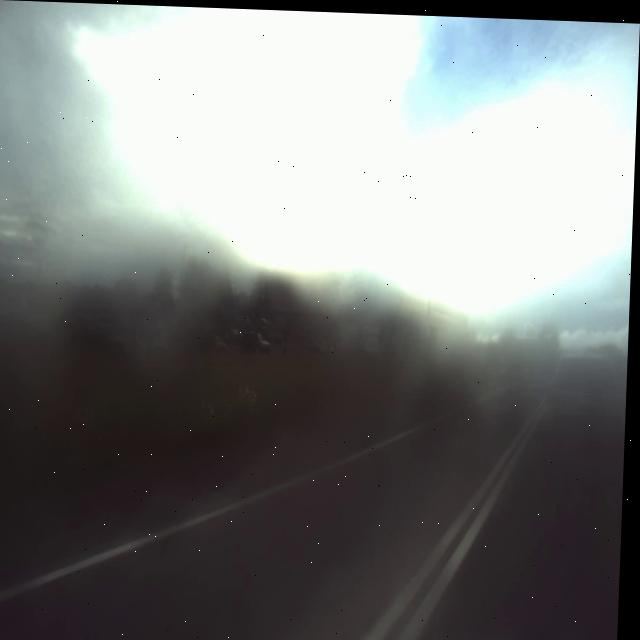car: (546, 334, 631, 455)
